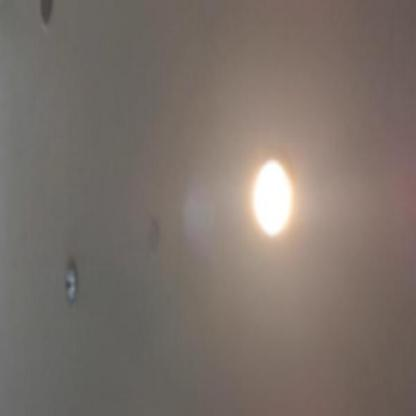light_on: (285, 142, 306, 242)
